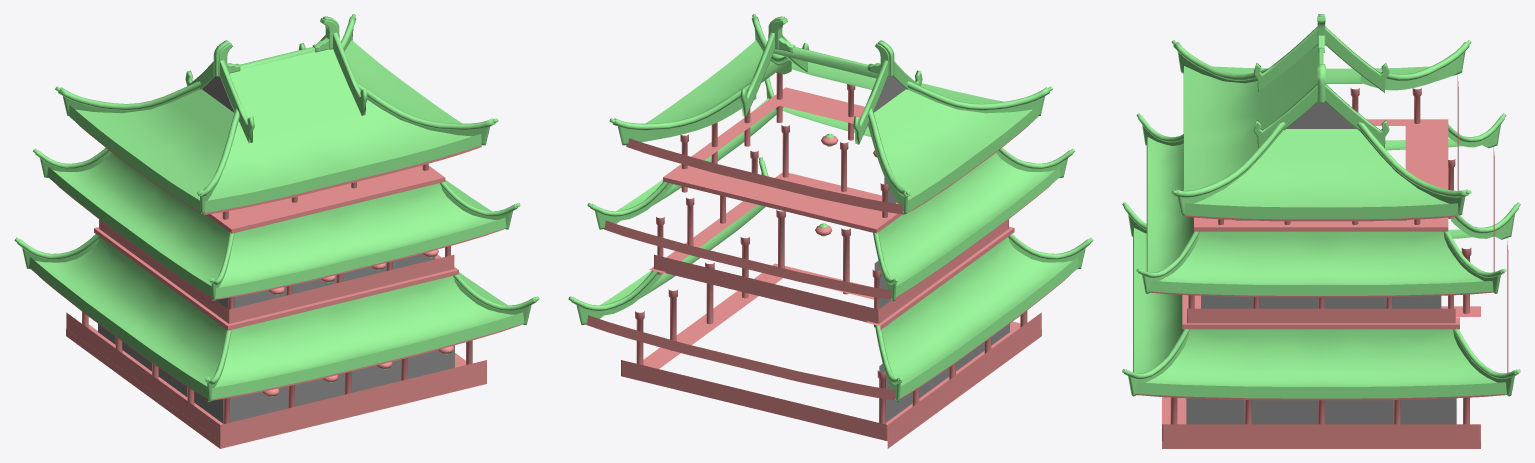
File: CHN_OOB_Building03_CMB.gltf
3 views of the same model, side by side, from view 1: azimuth 30°, elevation 25°; view 2: azimuth 150°, elevation 25°; view 3: azimuth 270°, elevation 25° (orthographic). The views are drawn at different scales.
Parts seen in each view (by area): view 1: CHN_OOB_Building03_CMB; view 2: CHN_OOB_Building03_CMB; view 3: CHN_OOB_Building03_CMB.
Part boxes in pixels (x1,y1,x2,y2): CHN_OOB_Building03_CMB: (14,14,539,448); CHN_OOB_Building03_CMB: (568,14,1093,448); CHN_OOB_Building03_CMB: (1122,14,1520,448).
Bounding box in the file's own units: 47.77 × 45.17 × 47.69.
